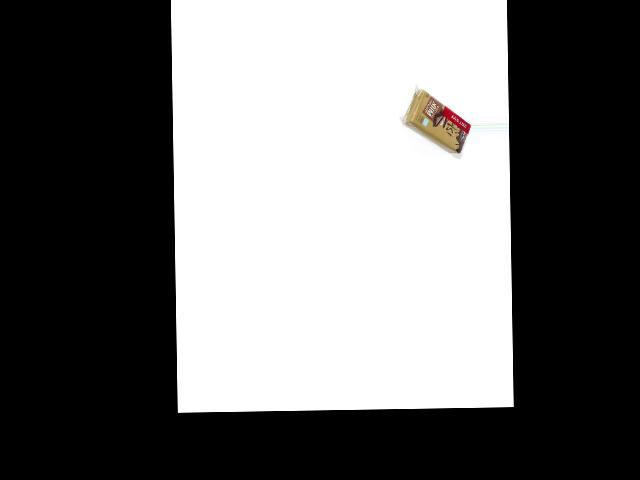chocolate: (402, 80, 470, 155)
